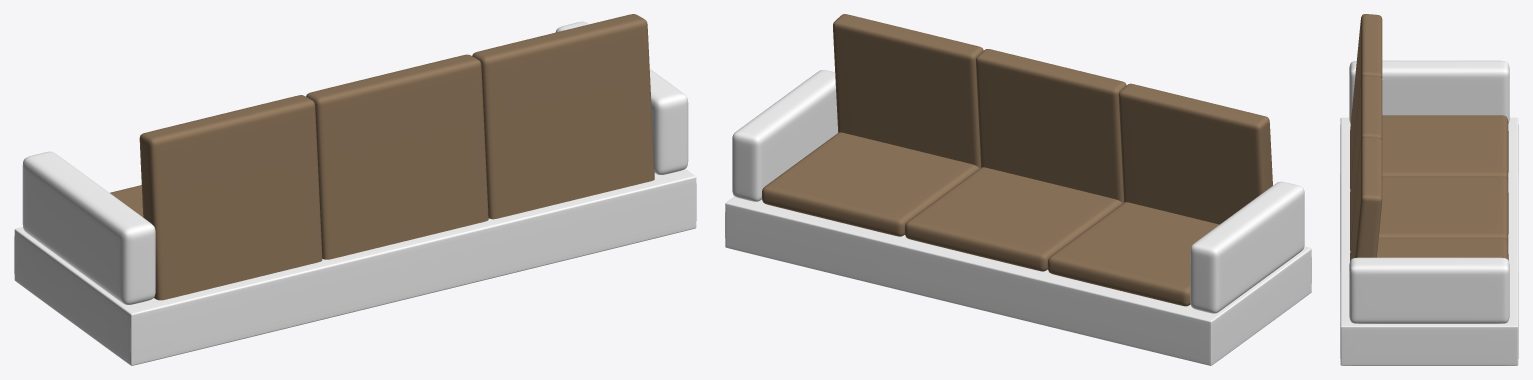
3 renders of one model, left to right at view 1: azimuth 30°, elevation 25°; view 2: azimuth 150°, elevation 25°; view 3: azimuth 270°, elevation 25°, orthographic. The views are drawn at different scales.
Parts seen in each view (by area): view 1: MainCouch_Base, MainCouch_BackCushion_1, MainCouch_BackCushion_3, MainCouch_BackCushion_2, MainCouch_Armrest_Left, MainCouch_Armrest_Right, MainCouch_SeatCushion_1; view 2: MainCouch_Base, MainCouch_BackCushion_2, MainCouch_BackCushion_3, MainCouch_BackCushion_1, MainCouch_SeatCushion_2, MainCouch_SeatCushion_3, MainCouch_SeatCushion_1, MainCouch_Armrest_Left, MainCouch_Armrest_Right; view 3: MainCouch_Base, MainCouch_Armrest_Right, MainCouch_SeatCushion_2, MainCouch_SeatCushion_1, MainCouch_Armrest_Left, MainCouch_BackCushion_3, MainCouch_SeatCushion_3, MainCouch_BackCushion_1, MainCouch_BackCushion_2.
Part boxes in pixels (x1,y1,x2,y2): MainCouch_Base: [14, 169, 696, 365]; MainCouch_BackCushion_1: [139, 95, 322, 300]; MainCouch_BackCushion_3: [472, 14, 654, 219]; MainCouch_BackCushion_2: [306, 54, 488, 259]; MainCouch_Armrest_Left: [22, 151, 155, 304]; MainCouch_Armrest_Right: [555, 21, 688, 174]; MainCouch_SeatCushion_1: [110, 185, 143, 217]; MainCouch_Base: [725, 196, 1311, 365]; MainCouch_BackCushion_2: [976, 49, 1126, 202]; MainCouch_BackCushion_3: [833, 14, 983, 168]; MainCouch_BackCushion_1: [1118, 83, 1272, 224]; MainCouch_SeatCushion_2: [904, 167, 1122, 271]; MainCouch_SeatCushion_3: [762, 132, 979, 236]; MainCouch_SeatCushion_1: [1047, 202, 1219, 306]; MainCouch_Armrest_Left: [1190, 181, 1304, 313]; MainCouch_Armrest_Right: [732, 70, 837, 201]; MainCouch_Base: [1340, 117, 1518, 365]; MainCouch_Armrest_Right: [1349, 257, 1509, 323]; MainCouch_SeatCushion_2: [1378, 176, 1508, 243]; MainCouch_SeatCushion_1: [1382, 115, 1508, 181]; MainCouch_Armrest_Left: [1349, 60, 1509, 123]; MainCouch_BackCushion_3: [1350, 137, 1382, 261]; MainCouch_SeatCushion_3: [1377, 238, 1508, 260]; MainCouch_BackCushion_1: [1350, 14, 1382, 188]; MainCouch_BackCushion_2: [1350, 75, 1382, 250].
Size of the model in its own units: 5 by 1.75 by 1.8.
